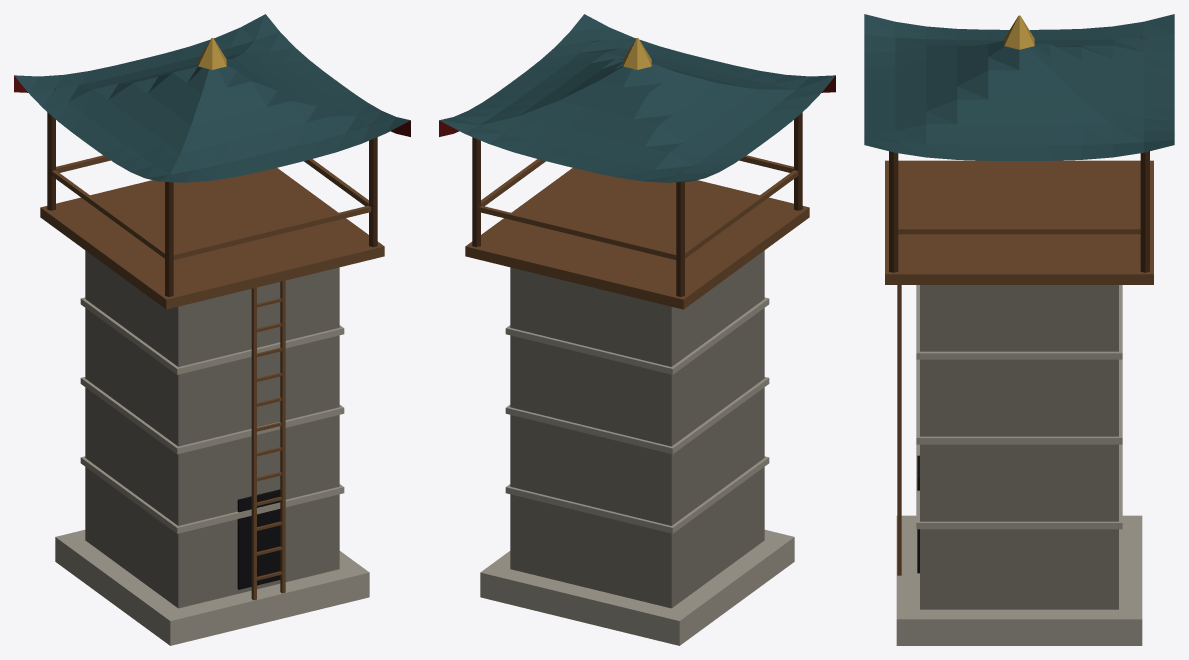
The model's file is watchtower.glb.
The picture shows the model from 3 angles, left to right: view 1: azimuth 30°, elevation 25°; view 2: azimuth 150°, elevation 25°; view 3: azimuth 270°, elevation 25°; orthographic projection. The views are drawn at different scales.
Parts seen in each view (by area): view 1: watchtower; view 2: watchtower; view 3: watchtower.
Boxes of the visible parts, bbox=[...] form: watchtower: bbox=[14, 14, 410, 645]; watchtower: bbox=[439, 14, 835, 645]; watchtower: bbox=[864, 14, 1174, 645].
Size of the model in its own units: 5.3 by 10.9 by 5.3.
